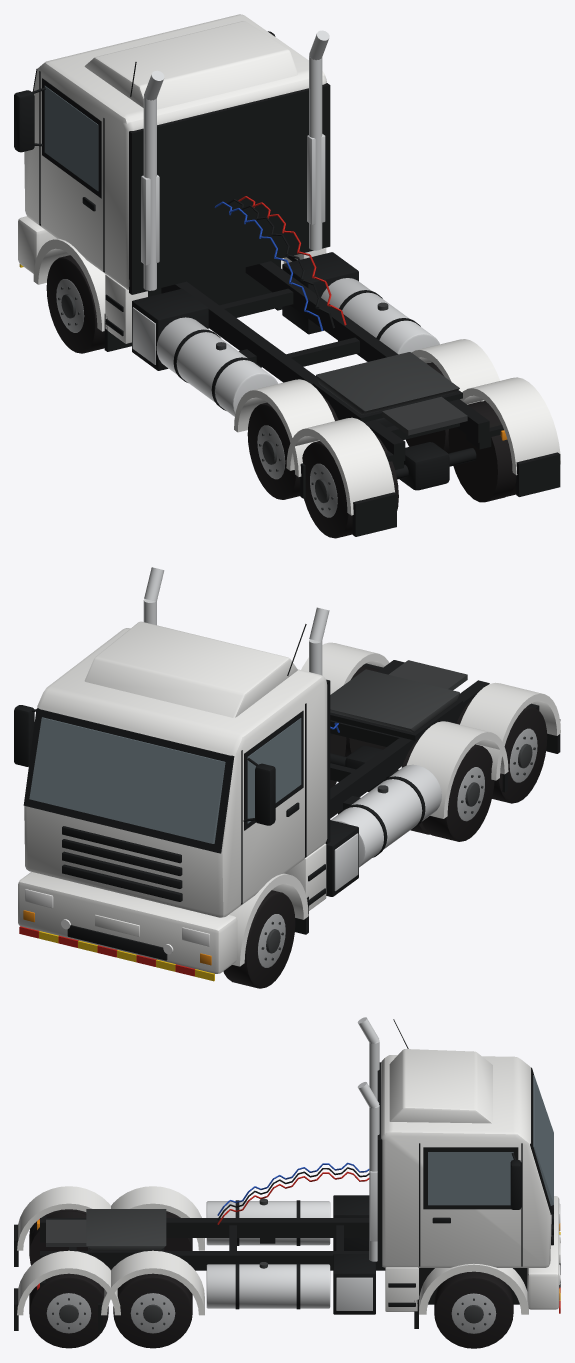
Rendered from cavalo-branco.glb.
3 views of the same model, one above another, from view 1: azimuth 30°, elevation 25°; view 2: azimuth 150°, elevation 25°; view 3: azimuth 270°, elevation 25° (orthographic). The views are drawn at different scales.
Visible parts, largest first — view 1: corpo; view 2: corpo; view 3: corpo.
Boxes of the visible parts, bbox=[...] form: corpo: bbox=[14, 14, 560, 538]; corpo: bbox=[14, 567, 560, 988]; corpo: bbox=[14, 1017, 560, 1348].
Size of the model in its own units: 3.12 by 3.75 by 7.16.
Materials: 1 (1 with a texture image).
